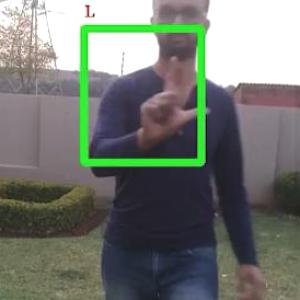land_hand: (136, 48, 217, 140)
